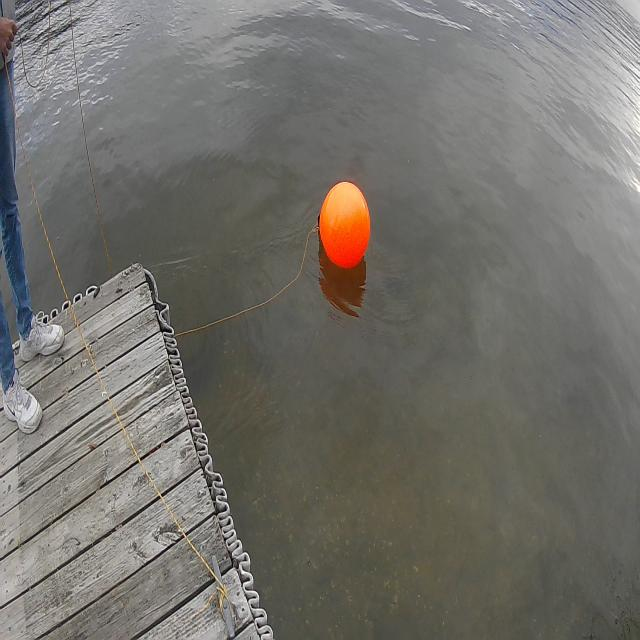Buoy: (312, 164, 374, 284)
